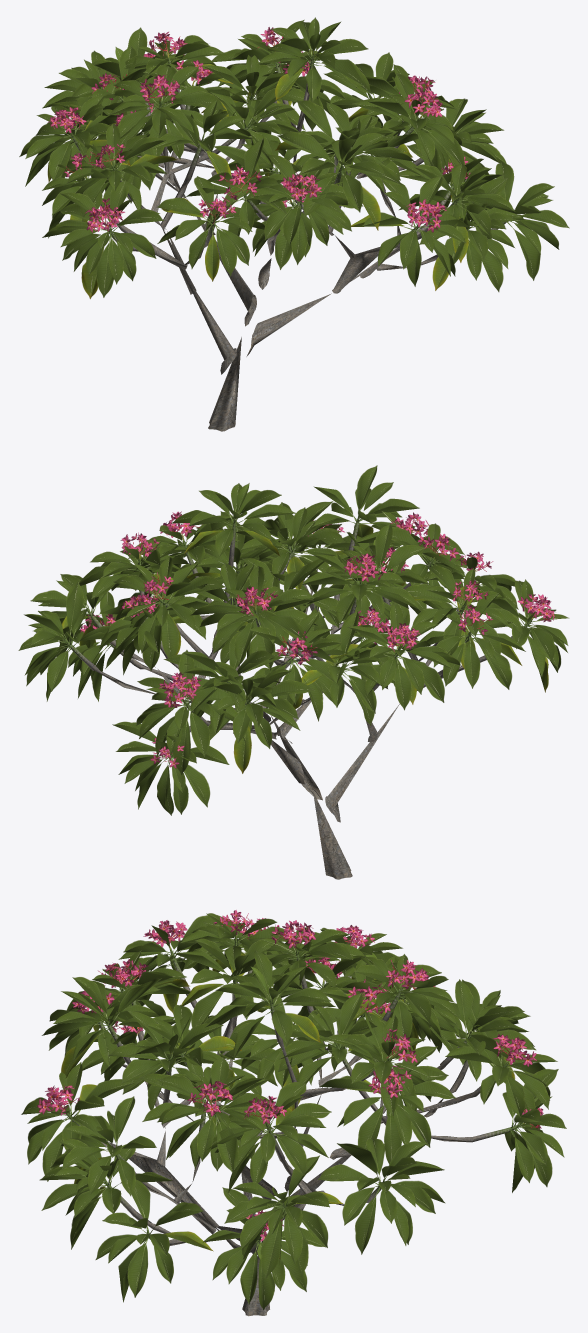
File: treeV2.glb
3 renders of one model, top to bottom at view 1: azimuth 30°, elevation 25°; view 2: azimuth 150°, elevation 25°; view 3: azimuth 270°, elevation 25°, orthographic. The views are drawn at different scales.
Parts seen in each view (by area): view 1: Plumeria_rubra_pink_HD_Plumeria rub leaf 01_0, Plumeria_rubra_pink_HD_Plumeria bark_0, Plumeria_rubra_pink_HD_Plumeria petal_0, Plumeria_rubra_pink_HD_Plumeria rub leaf 01 F1_0, Plumeria_rubra_pink_HD_Plumeria leaf stalk_0, Plumeria_rubra_pink_HD_Material_0, Plumeria_rubra_pink_HD_Flower stalk 01_0; view 2: Plumeria_rubra_pink_HD_Plumeria rub leaf 01_0, Plumeria_rubra_pink_HD_Plumeria petal_0, Plumeria_rubra_pink_HD_Plumeria bark_0, Plumeria_rubra_pink_HD_Plumeria rub leaf 01 F1_0, Plumeria_rubra_pink_HD_Plumeria leaf stalk_0, Plumeria_rubra_pink_HD_Material_0, Plumeria_rubra_pink_HD_Flower stalk 01_0; view 3: Plumeria_rubra_pink_HD_Plumeria rub leaf 01_0, Plumeria_rubra_pink_HD_Plumeria petal_0, Plumeria_rubra_pink_HD_Plumeria bark_0, Plumeria_rubra_pink_HD_Plumeria rub leaf 01 F1_0, Plumeria_rubra_pink_HD_Plumeria leaf stalk_0, Plumeria_rubra_pink_HD_Material_0, Plumeria_rubra_pink_HD_Flower stalk 01_0.
Boxes of the visible parts, x1=… form: Plumeria_rubra_pink_HD_Plumeria rub leaf 01_0: x1=19, y1=17, x2=569, y2=297; Plumeria_rubra_pink_HD_Plumeria bark_0: x1=114, y1=91, x2=438, y2=431; Plumeria_rubra_pink_HD_Plumeria petal_0: x1=48, y1=27, x2=470, y2=232; Plumeria_rubra_pink_HD_Plumeria rub leaf 01 F1_0: x1=47, y1=50, x2=468, y2=298; Plumeria_rubra_pink_HD_Plumeria leaf stalk_0: x1=33, y1=22, x2=566, y2=295; Plumeria_rubra_pink_HD_Material_0: x1=70, y1=55, x2=506, y2=246; Plumeria_rubra_pink_HD_Flower stalk 01_0: x1=58, y1=35, x2=468, y2=225; Plumeria_rubra_pink_HD_Plumeria rub leaf 01_0: x1=18, y1=465, x2=568, y2=815; Plumeria_rubra_pink_HD_Plumeria petal_0: x1=80, y1=511, x2=555, y2=768; Plumeria_rubra_pink_HD_Plumeria bark_0: x1=94, y1=558, x2=486, y2=879; Plumeria_rubra_pink_HD_Plumeria rub leaf 01 F1_0: x1=62, y1=524, x2=548, y2=773; Plumeria_rubra_pink_HD_Plumeria leaf stalk_0: x1=23, y1=473, x2=564, y2=809; Plumeria_rubra_pink_HD_Material_0: x1=64, y1=517, x2=531, y2=757; Plumeria_rubra_pink_HD_Flower stalk 01_0: x1=82, y1=521, x2=542, y2=761; Plumeria_rubra_pink_HD_Plumeria rub leaf 01_0: x1=21, y1=913, x2=566, y2=1310; Plumeria_rubra_pink_HD_Plumeria petal_0: x1=37, y1=910, x2=543, y2=1241; Plumeria_rubra_pink_HD_Plumeria bark_0: x1=101, y1=994, x2=475, y2=1316; Plumeria_rubra_pink_HD_Plumeria rub leaf 01 F1_0: x1=61, y1=952, x2=515, y2=1264; Plumeria_rubra_pink_HD_Plumeria leaf stalk_0: x1=29, y1=917, x2=560, y2=1299; Plumeria_rubra_pink_HD_Material_0: x1=66, y1=937, x2=521, y2=1252; Plumeria_rubra_pink_HD_Flower stalk 01_0: x1=48, y1=913, x2=537, y2=1239.
Size of the model in its own units: 1.94 by 1.38 by 1.77.
9 materials, 9 textured.
